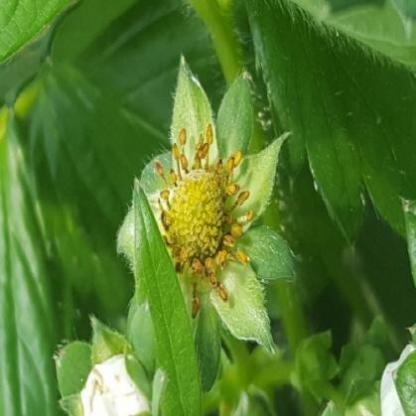Strawberry_Blossom_Blight: (150, 122, 258, 320)
